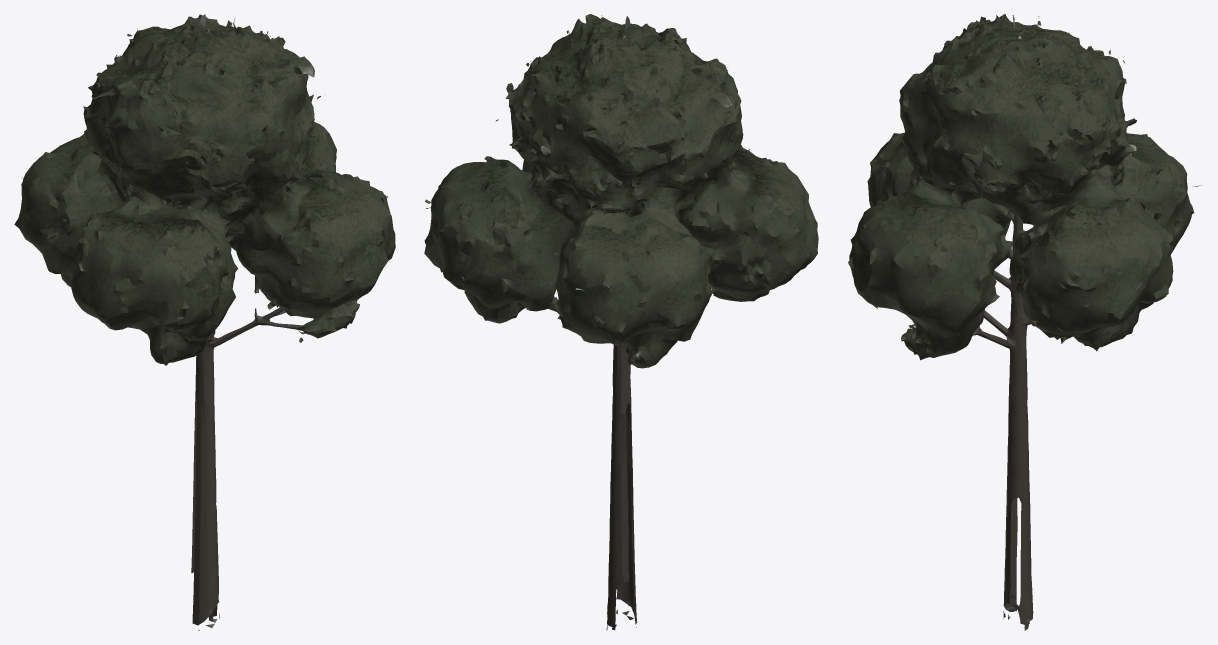
File: m19-birch.glb
3 views of the same model, side by side, from view 1: azimuth 30°, elevation 25°; view 2: azimuth 150°, elevation 25°; view 3: azimuth 270°, elevation 25° (orthographic).
Visible parts, largest first — view 1: m19-birch-meshy.glb; view 2: m19-birch-meshy.glb; view 3: m19-birch-meshy.glb.
Part boxes in pixels (left/top/right/bottom): m19-birch-meshy.glb: left=14, top=14, right=395, bottom=630; m19-birch-meshy.glb: left=424, top=14, right=818, bottom=630; m19-birch-meshy.glb: left=848, top=14, right=1201, bottom=630.
Size of the model in its own units: 1.02 by 1.9 by 1.01.
1 material, 1 textured.
